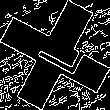L_NW: (25, 30, 85, 80)
